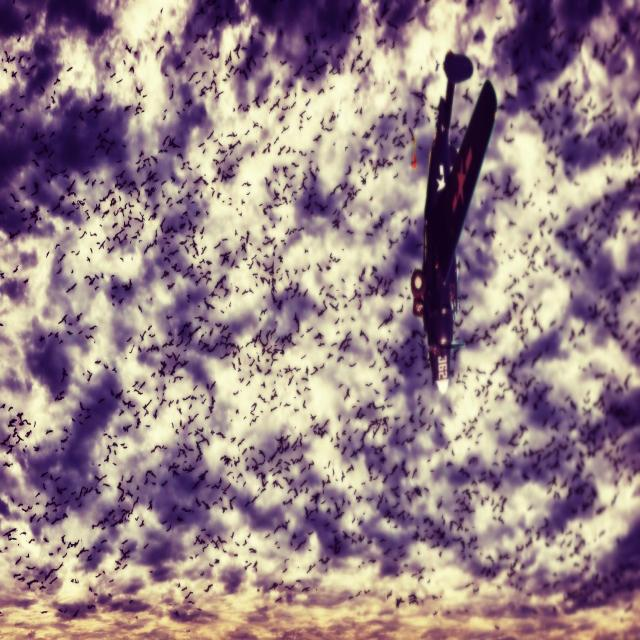airplane: (409, 48, 498, 394)
